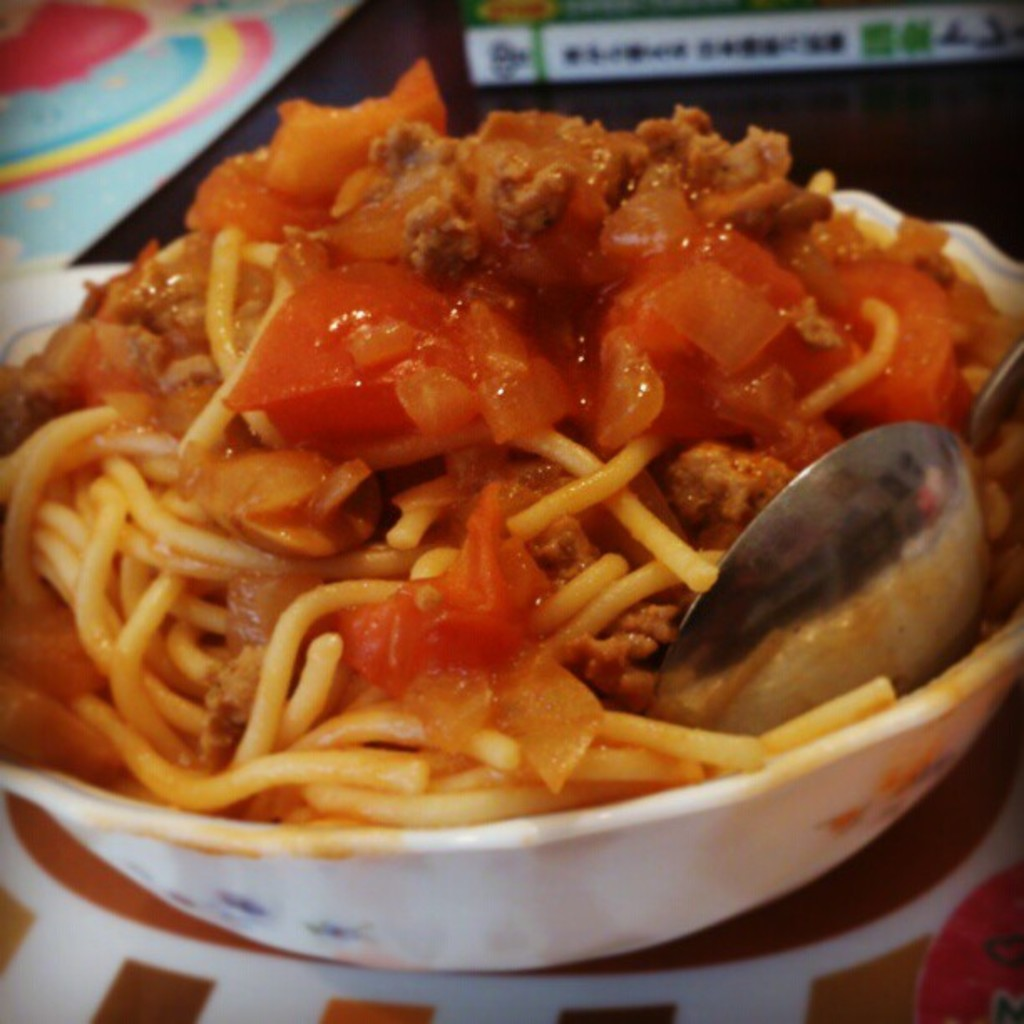pasta: (0, 37, 1002, 892)
